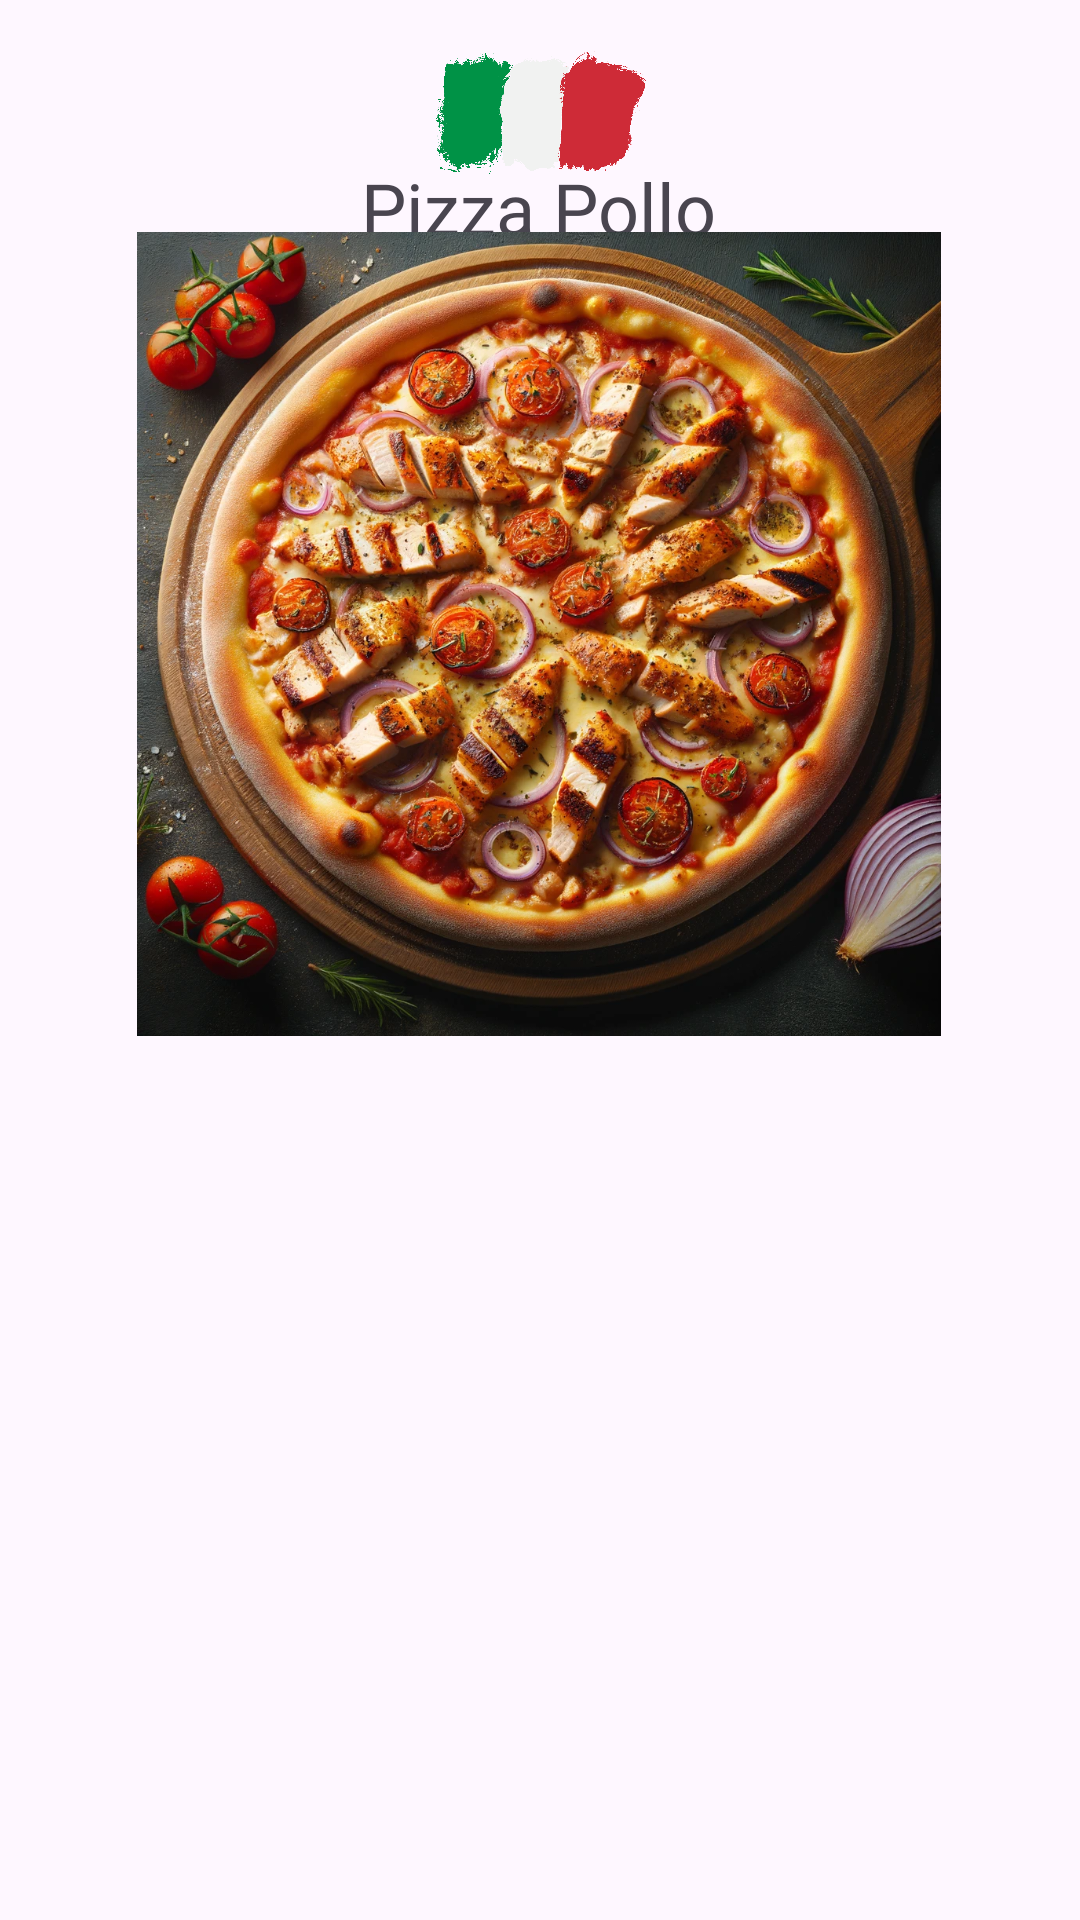

Screen size 1080*1920. Icon name, then its box in pixels as box=[x1, y1, x2, y2]:
italy: box=[436, 52, 646, 174]
